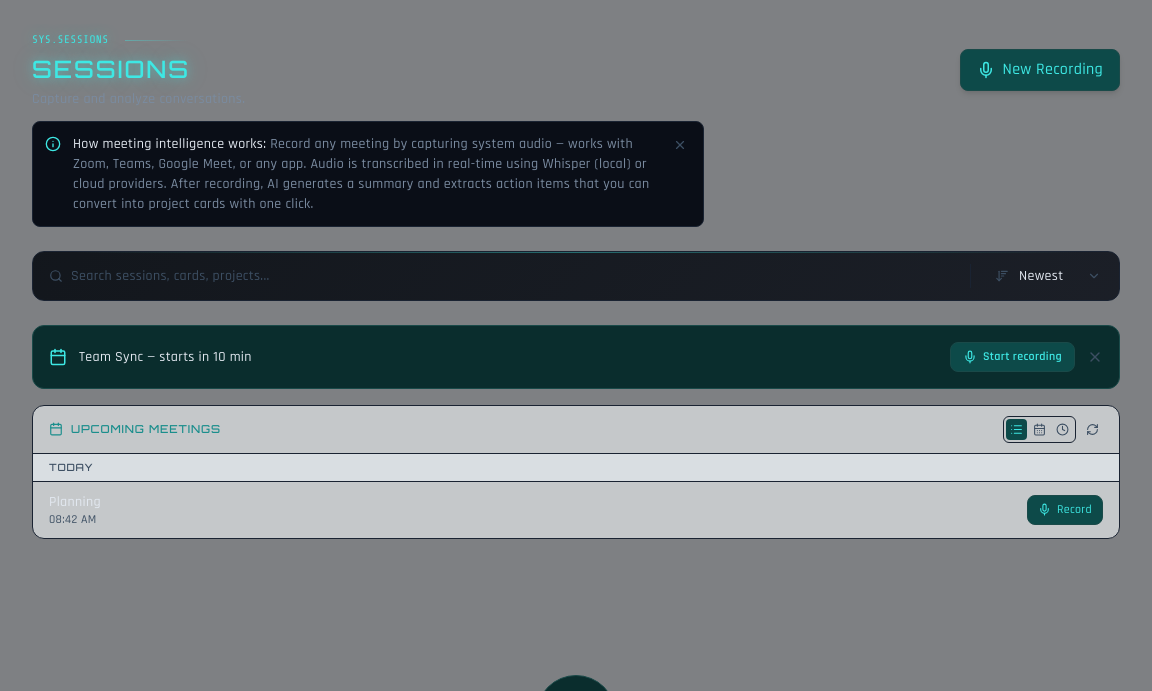
SessionsHome — calendar ribbon (Phase G Task 4) › view preference: the week board keeps the ribbon event that the list hides
expect the button with aria-label "Start recording for Planning" is shown: met, box [1027, 494, 1103, 524]
Click the button named "Week view": point(1040, 429) [1029, 418, 1050, 440]
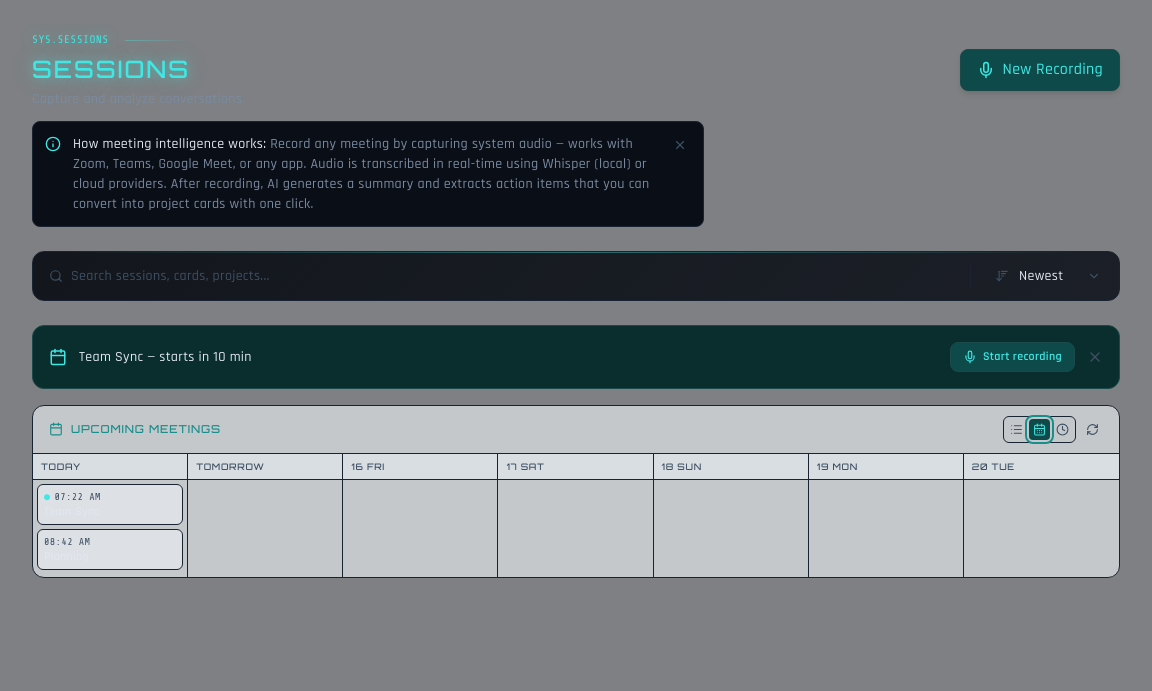
expect the button with aria-label "Open details for Team Sync" is shown: met, box [37, 484, 183, 525]
expect the button with aria-label "Open details for Planning" is shown: met, box [37, 529, 183, 570]
